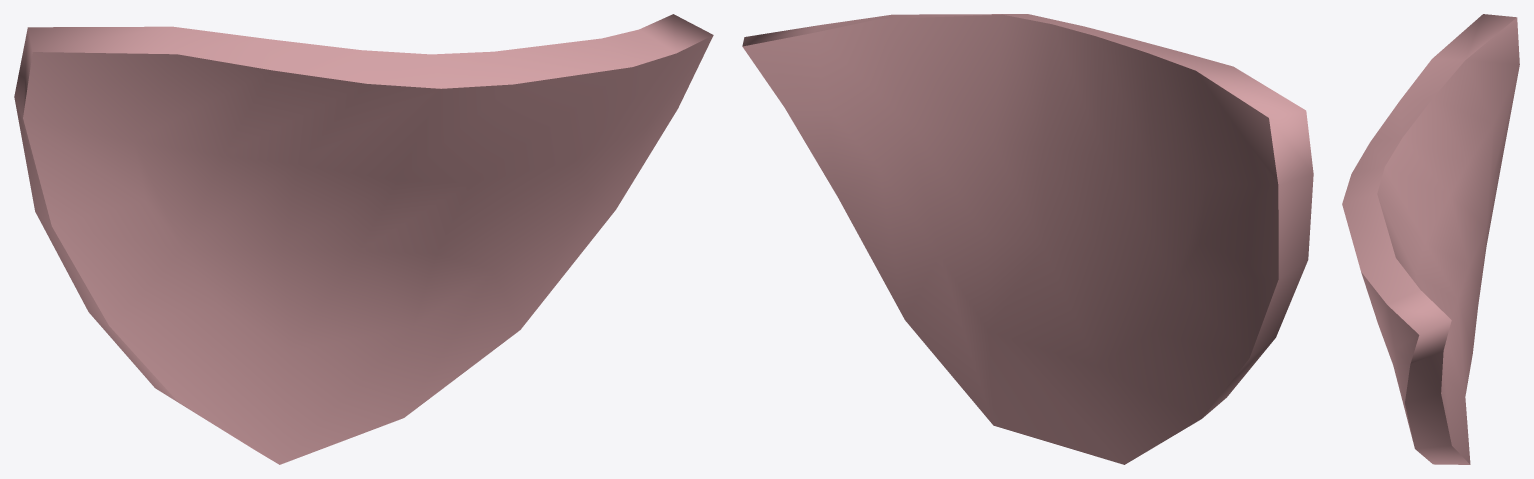
The picture shows the model from 3 angles, left to right: view 1: azimuth 30°, elevation 25°; view 2: azimuth 150°, elevation 25°; view 3: azimuth 270°, elevation 25°; orthographic projection. The views are drawn at different scales.
Parts seen in each view (by area): view 1: ZA_f71bfebd57584337; view 2: ZA_f71bfebd57584337; view 3: ZA_f71bfebd57584337.
Boxes of the visible parts, box(x1,y1,x2,y2) form: ZA_f71bfebd57584337: box(14, 14, 713, 464); ZA_f71bfebd57584337: box(742, 14, 1313, 464); ZA_f71bfebd57584337: box(1342, 14, 1519, 464).
Bounding box in the file's own units: 0.0457 × 0.0298 × 0.0142.
